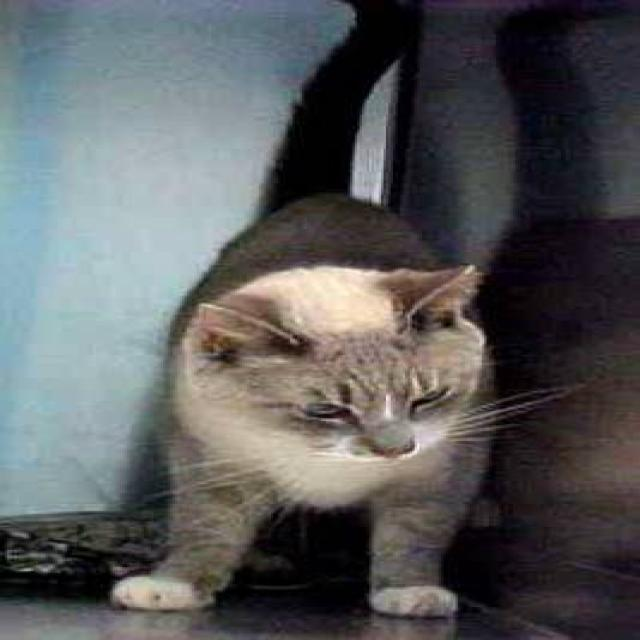cat: (108, 261, 582, 618)
